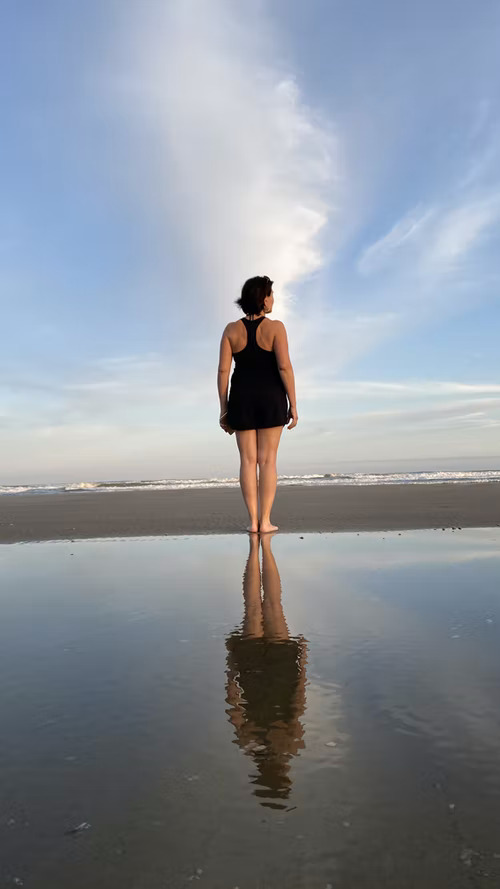person: (216, 277, 298, 533)
